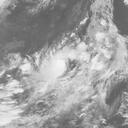cyclone: (40, 53, 69, 78)
